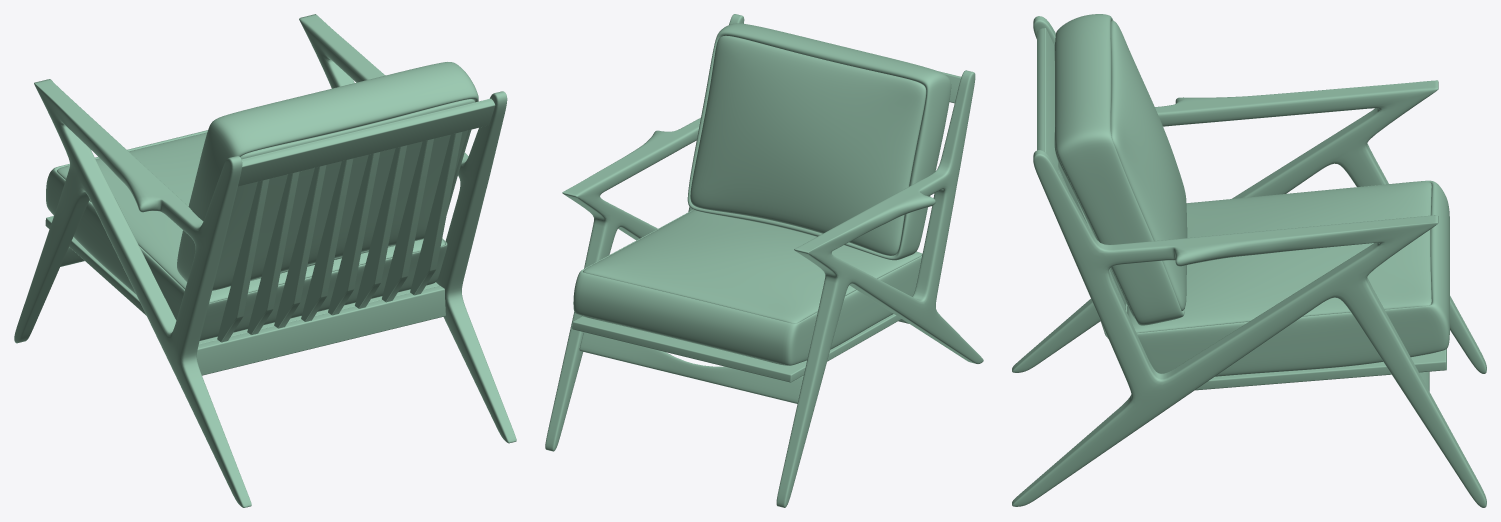
The model's file is chair1_green.glb.
3 views of the same model, side by side, from view 1: azimuth 30°, elevation 25°; view 2: azimuth 150°, elevation 25°; view 3: azimuth 270°, elevation 25° (orthographic). The views are drawn at different scales.
Visible parts, largest first — view 1: cushions, legs, back, supports, base; view 2: cushions, legs, supports, base; view 3: cushions, legs, base, supports.
Part boxes in pixels (x1,y1,x2,y2): cushions: (46, 62, 478, 340); legs: (14, 14, 516, 507); back: (217, 132, 462, 342); supports: (60, 98, 495, 375); base: (45, 216, 439, 344); cushions: (573, 23, 951, 365); legs: (545, 14, 983, 507); supports: (579, 23, 961, 403); base: (572, 314, 901, 382); cushions: (1054, 14, 1449, 376); legs: (1012, 16, 1486, 507); base: (1195, 349, 1446, 390); supports: (1037, 28, 1429, 391).
Bounding box in the file's own units: 1.8 × 1.9 × 2.22.
